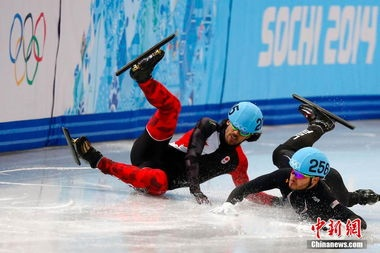falling: (56, 31, 277, 213)
